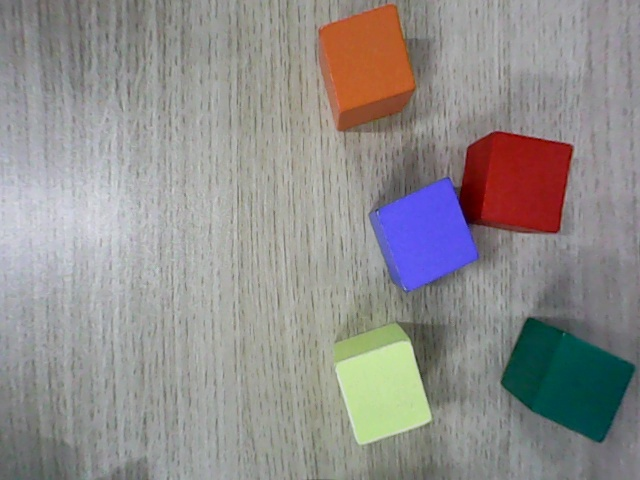upside of small cube: (375, 178, 481, 296), (530, 332, 636, 445), (333, 340, 436, 447), (319, 2, 415, 115), (482, 131, 574, 233)
